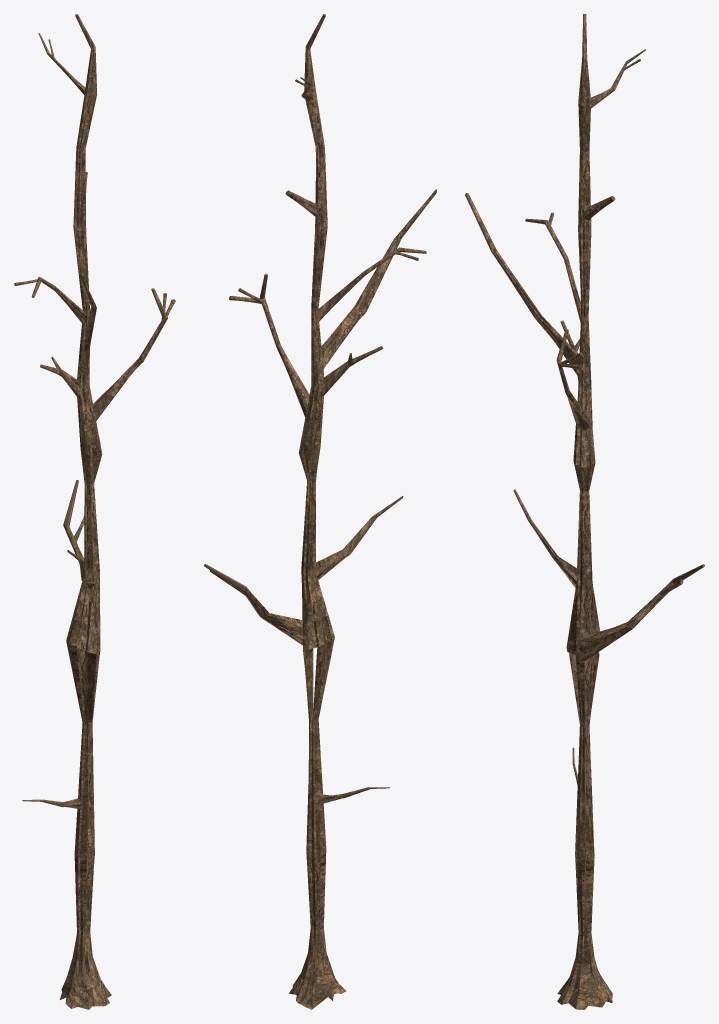
File: trunk4_v3.glb
3 views of the same model, side by side, from view 1: azimuth 30°, elevation 25°; view 2: azimuth 150°, elevation 25°; view 3: azimuth 270°, elevation 25° (orthographic).
Parts seen in each view (by area): view 1: trunk4; view 2: trunk4; view 3: trunk4.
Part boxes in pixels (x1=…): trunk4: x1=14, y1=14, x2=175, y2=1009; trunk4: x1=204, y1=14, x2=436, y2=1009; trunk4: x1=465, y1=14, x2=704, y2=1009.
Size of what is drawn, in the model's own units: 14.95 by 80.88 by 17.81.
1 material, 1 textured.
